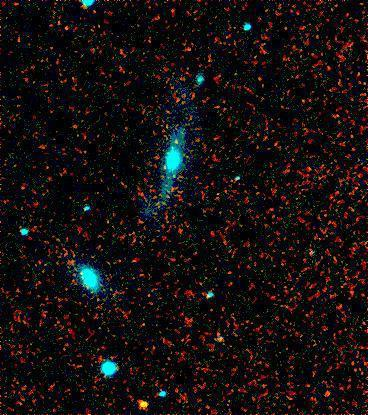star: (126, 389, 156, 415)
